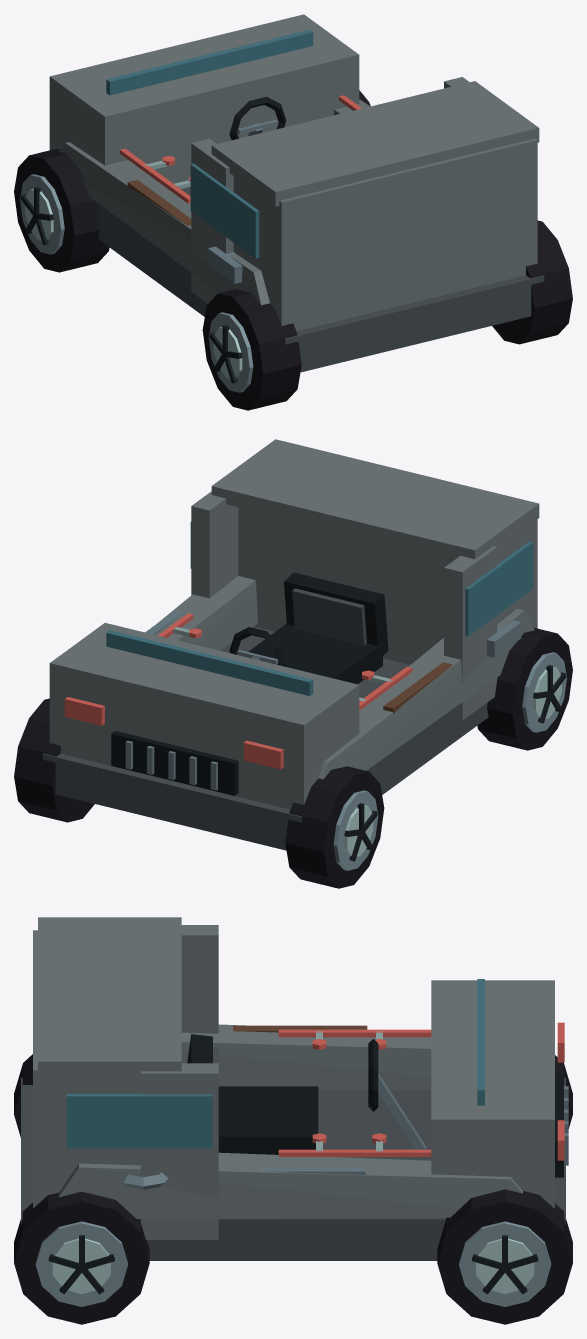
The model's file is kart.glb.
3 views of the same model, one above another, from view 1: azimuth 30°, elevation 25°; view 2: azimuth 150°, elevation 25°; view 3: azimuth 270°, elevation 25° (orthographic). The views are drawn at different scales.
Visible parts, largest first — view 1: identity-van-van-utility-body, wheel-rear-left, wheel-front-left, wheel-rear-right, identity-van-motif-tools, identity-van-motif-circuit, identity-van-driver-cockpit; view 2: identity-van-van-utility-body, identity-van-driver-cockpit, wheel-front-left, wheel-rear-left, wheel-front-right, identity-van-motif-tools, identity-van-motif-circuit; view 3: identity-van-van-utility-body, wheel-front-right, wheel-rear-right, identity-van-driver-cockpit, identity-van-motif-circuit, identity-van-motif-tools, wheel-rear-left.
Boxes of the visible parts, box(x1,y1,x2,y2) form: identity-van-van-utility-body: box(49, 14, 544, 372); wheel-rear-left: box(202, 289, 301, 410); wheel-front-left: box(14, 148, 109, 272); wheel-rear-right: box(492, 220, 572, 344); identity-van-motif-tools: box(127, 180, 242, 283); identity-van-motif-circuit: box(120, 95, 361, 203); identity-van-driver-cockpit: box(229, 96, 286, 140); identity-van-van-utility-body: box(42, 439, 539, 850); identity-van-driver-cockpit: box(229, 572, 388, 684); wheel-front-left: box(285, 766, 384, 888); wheel-rear-left: box(477, 627, 572, 750); wheel-front-right: box(14, 698, 94, 822); identity-van-motif-tools: box(145, 610, 521, 713); identity-van-motif-circuit: box(158, 613, 412, 710); identity-van-van-utility-body: box(21, 917, 568, 1260); wheel-front-right: box(437, 1189, 572, 1324); wheel-rear-right: box(14, 1191, 149, 1324); identity-van-driver-cockpit: box(187, 1034, 426, 1154); identity-van-motif-circuit: box(278, 1029, 431, 1156); identity-van-motif-tools: box(119, 1025, 367, 1189); wheel-rear-left: box(14, 1054, 32, 1137).
Bounding box in the file's own units: 2.13 × 1.38 × 2.8.
